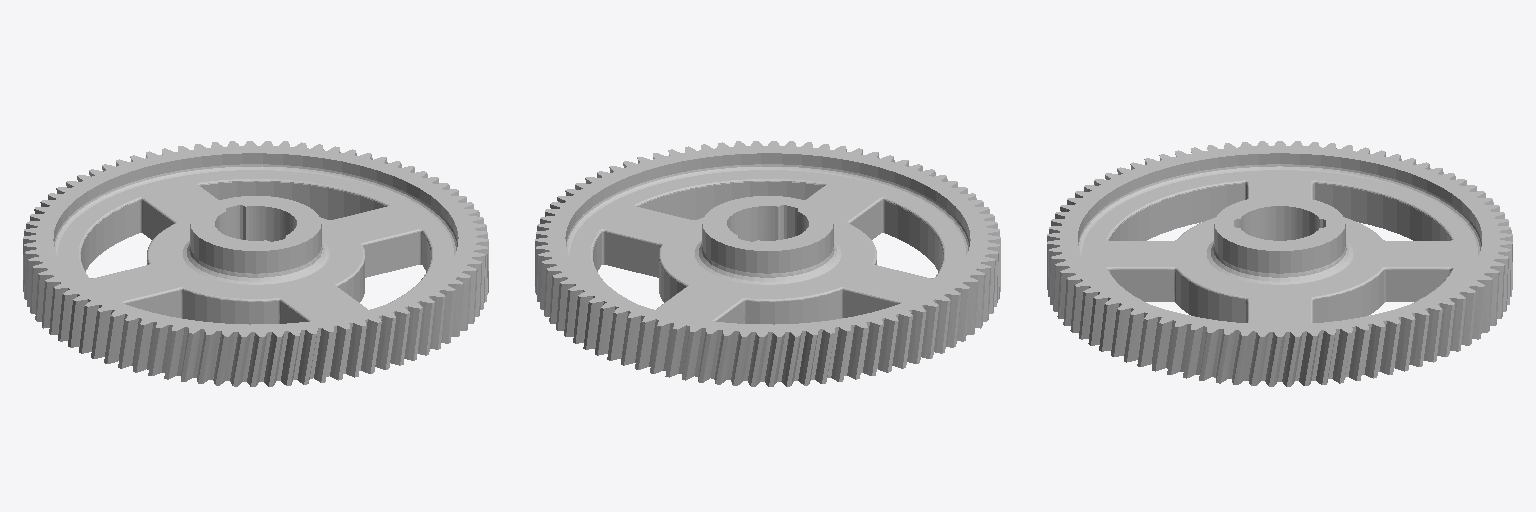
File: N2-002_pc_gfx.obj
3 renders of one model, left to right at view 1: azimuth 30°, elevation 25°; view 2: azimuth 150°, elevation 25°; view 3: azimuth 270°, elevation 25°, orthographic.
Visible parts, largest first — view 1: N2-002; view 2: N2-002; view 3: N2-002.
Part boxes in pixels (x1,y1,x2,y2): N2-002: (23, 141, 488, 386); N2-002: (535, 141, 1000, 386); N2-002: (1047, 141, 1512, 386).
Bounding box in the file's own units: 0.8288 × 0.1279 × 0.8288.